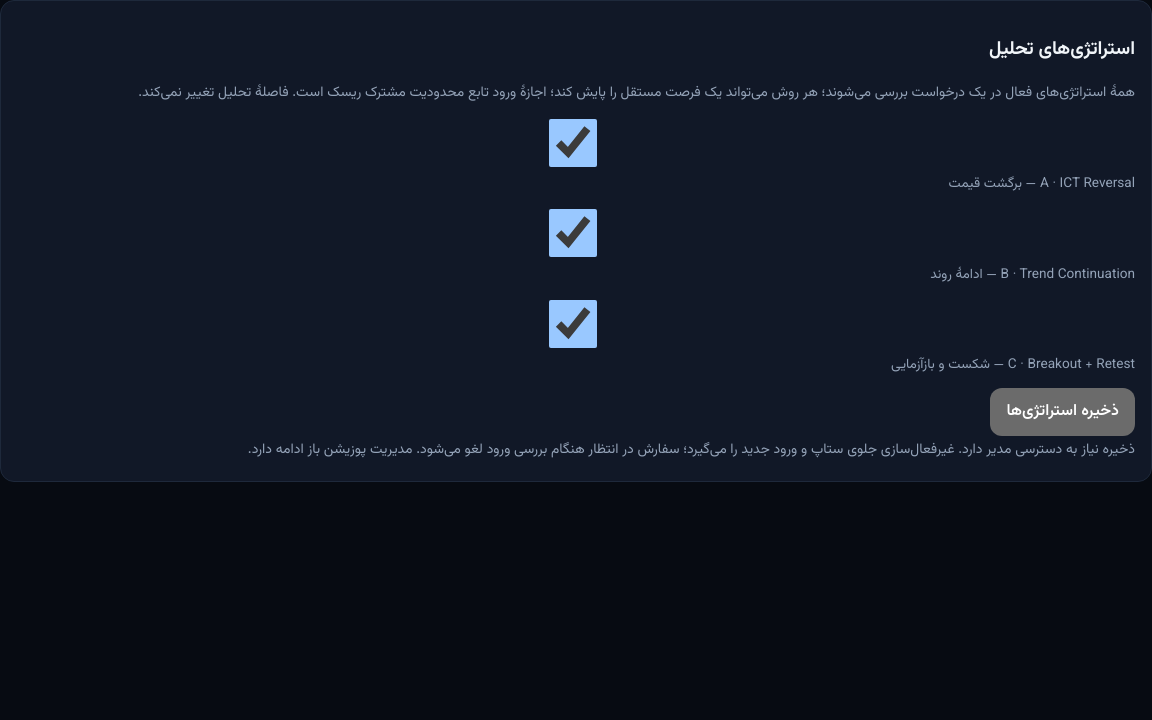
Test case: shows save failure without claiming success
Expected: the checkbox labelled "B · Trend Continuation — ادامهٔ روند" is shown, [14,209,1132,257]
Click the button "ذخیره استراتژی‌ها" at coordinates (1063, 412), box [990,388,1135,436]
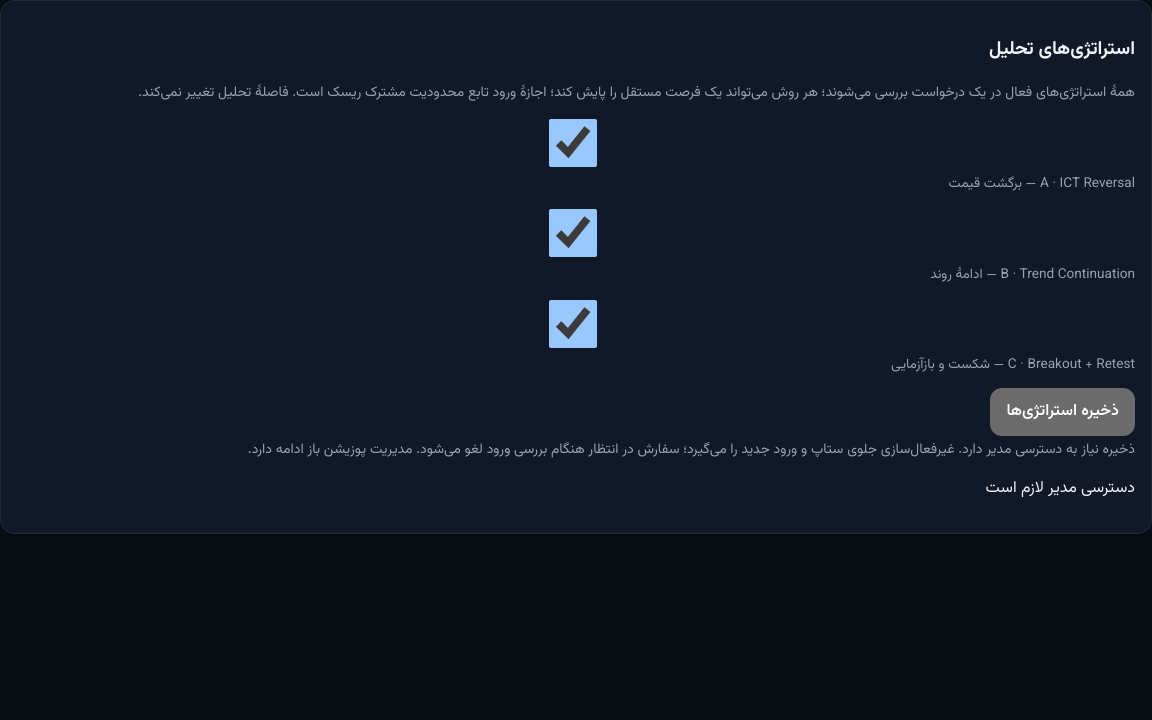
Result: the message reads "دسترسی مدیر لازم است" at [985,476,1135,501]
